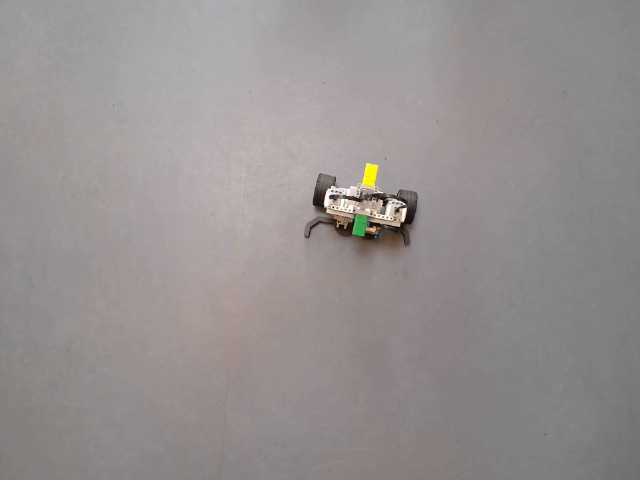green: (352, 213, 368, 237)
robot: (304, 159, 419, 246)
yellow: (362, 162, 378, 185)
